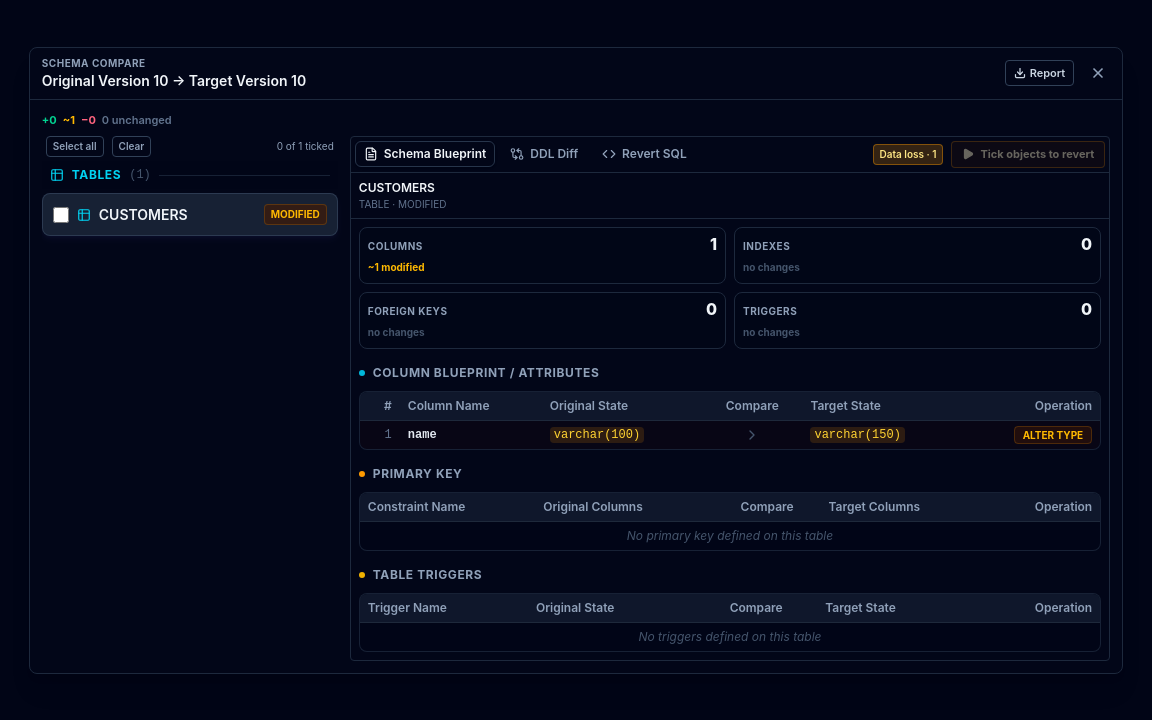
Test: a revert only runs against the current database › cannot execute an approved plan after the Original version changes
This screenshot has width=1152, height=720.
Later steps or results of the test are not shown.
Expected: the button with test id "lokee-cmp-run-revert" shows "Tick objects", [952,141,1105,168]
Step 1. Click the button with test id "lokee-cmp-select-all" → click(75, 146), box [46,136,104,157]
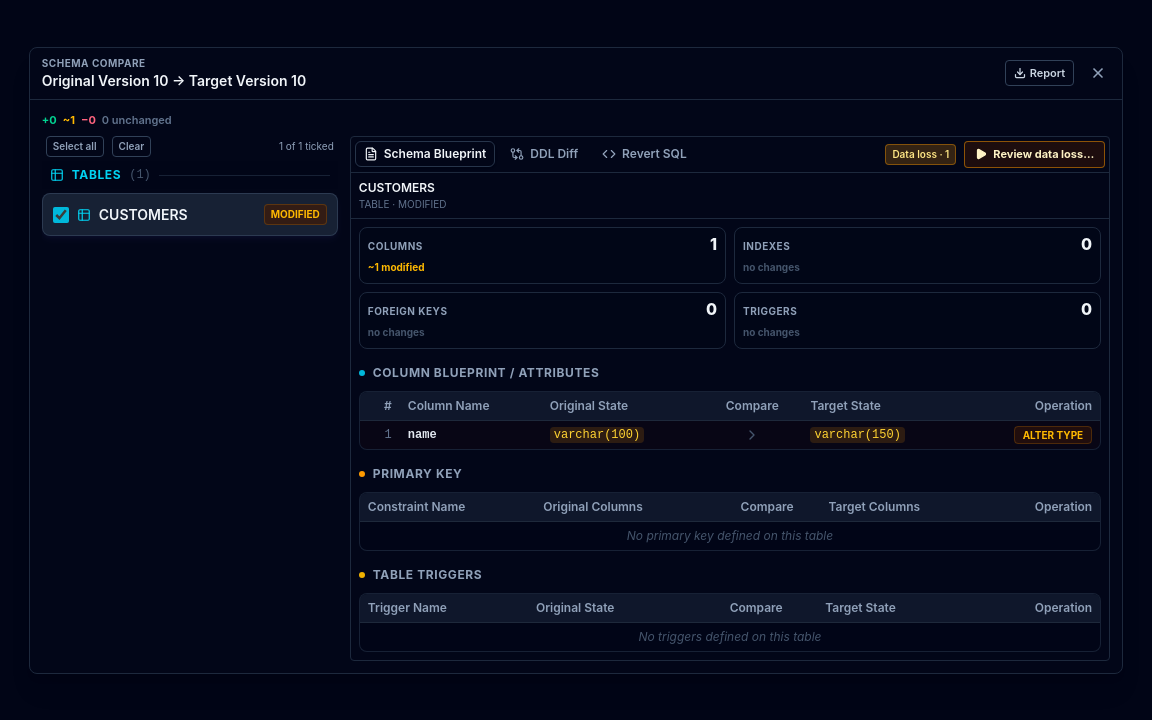
Expected: the button with test id "lokee-cmp-run-revert" shows "Review data loss"
Step 2. Click the button with test id "lokee-cmp-run-revert" → click(1035, 154), box [964,141,1105,168]
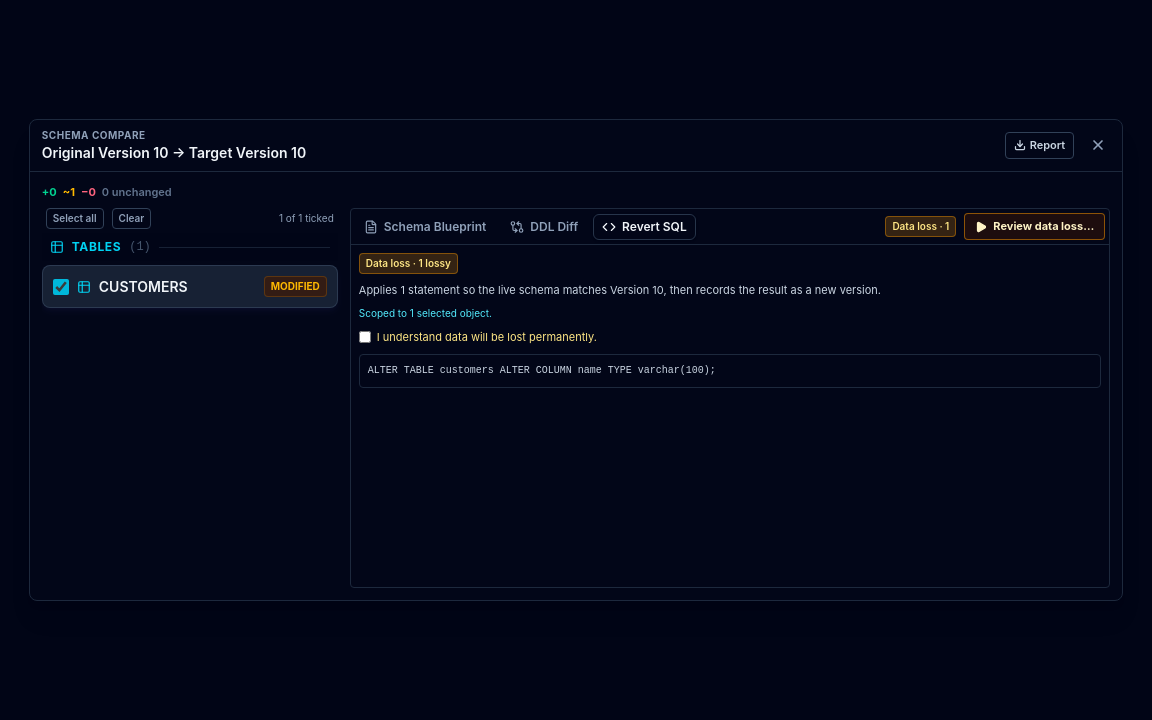
Step 3. Click the checkbox with test id "lokee-cmp-confirm-lossy" → click(365, 337), box [359,331,371,343]
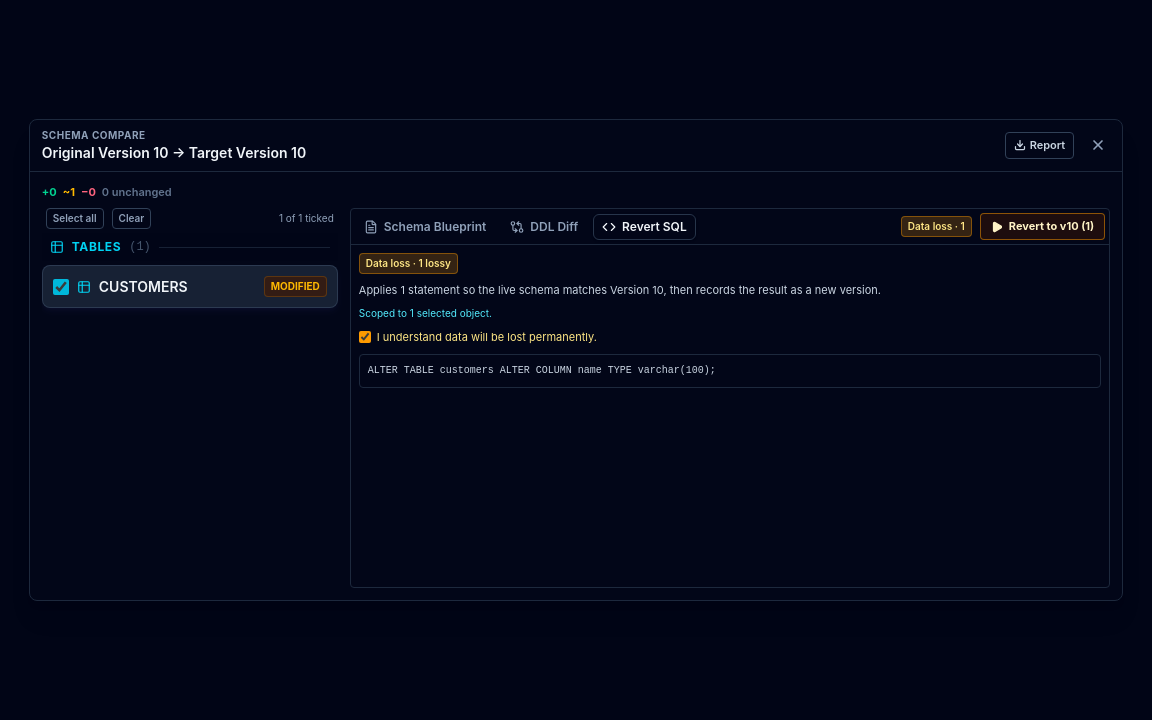
Expected: the button with test id "lokee-cmp-run-revert" is enabled, [980,213,1105,240]
